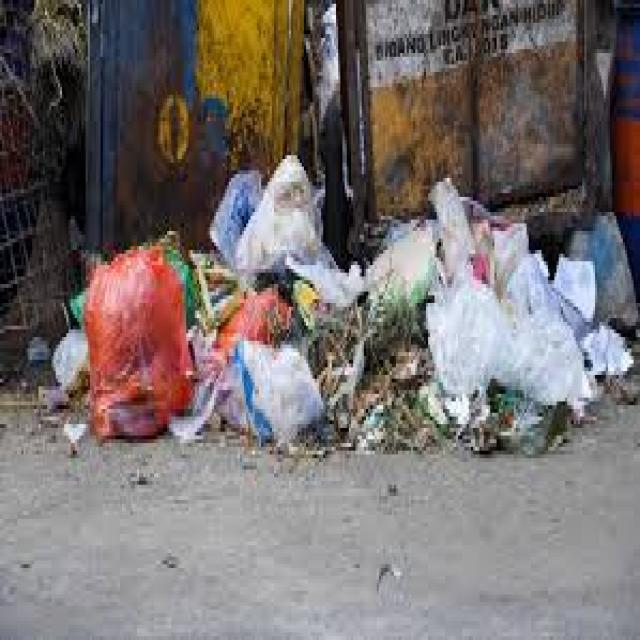garbage: (44, 182, 640, 452)
